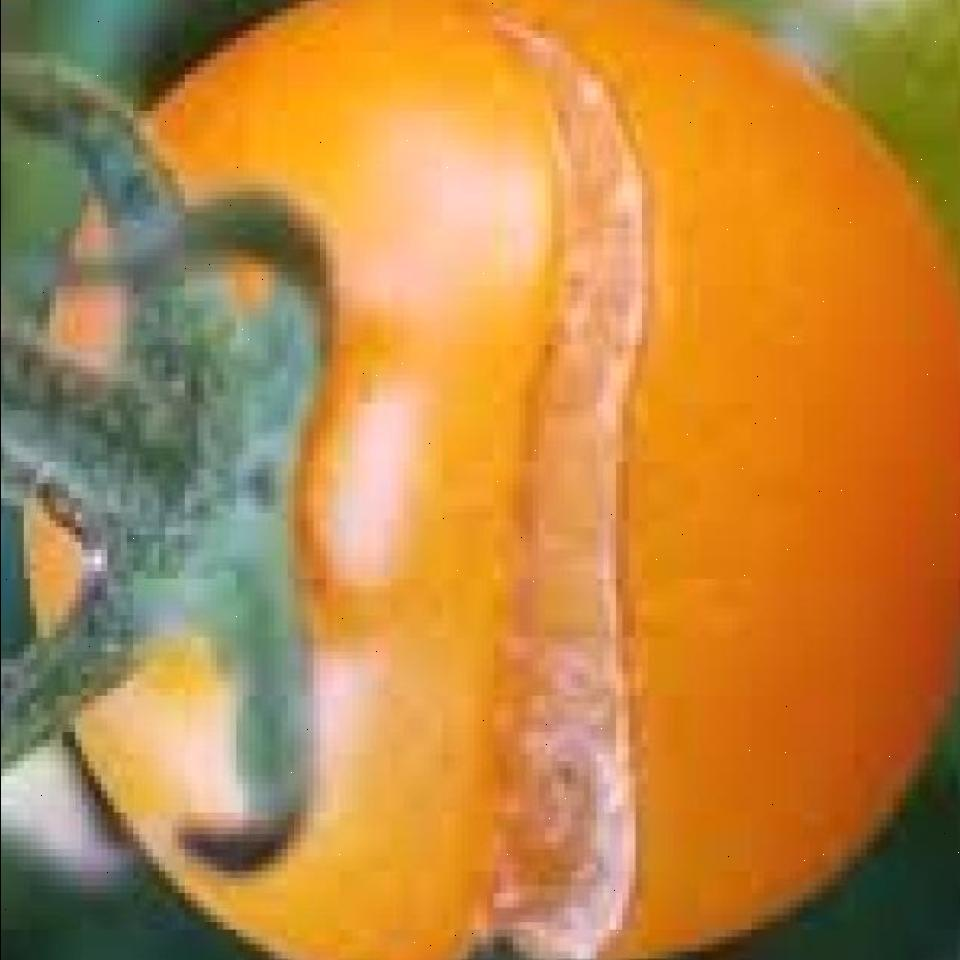Cracking: (418, 0, 648, 960)
